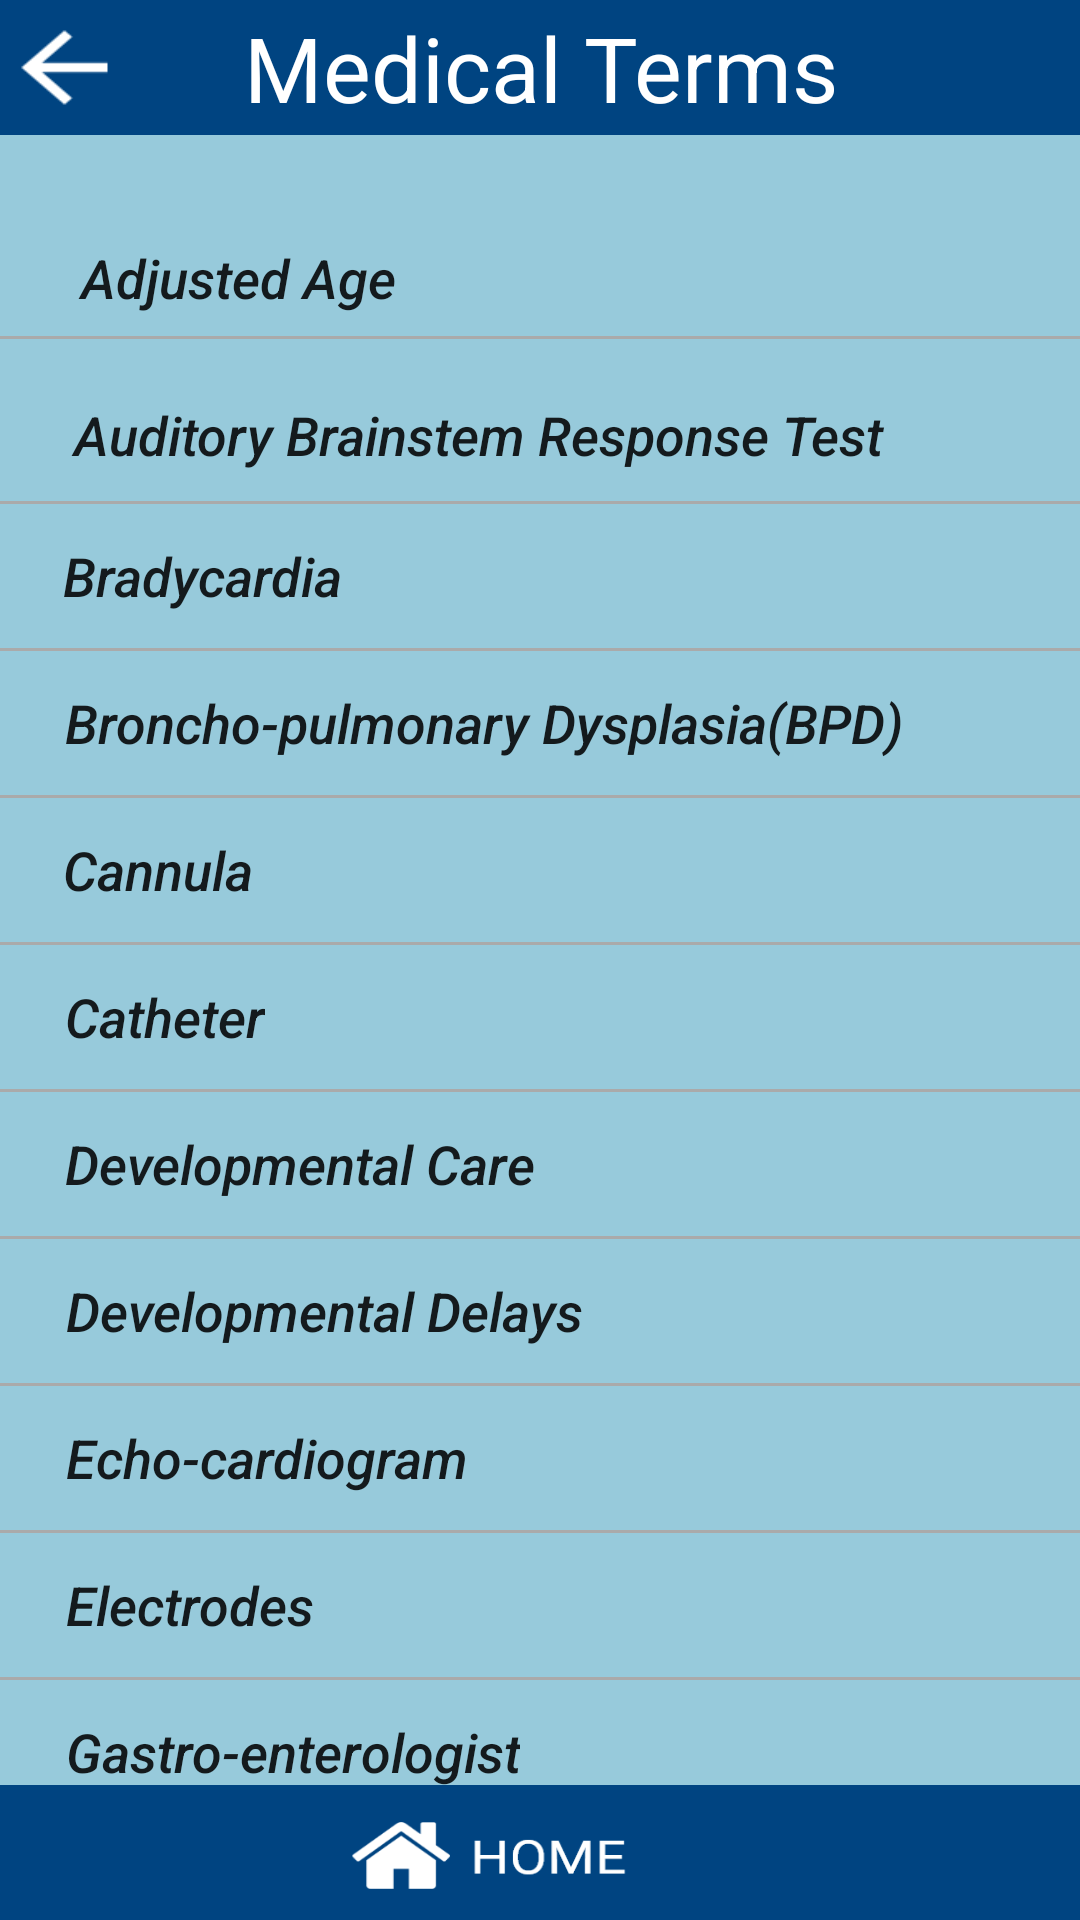

Point at icon controls on the screen. Image size 1080*1920, points as (x=x, y=y).
back: (x=64, y=67)
